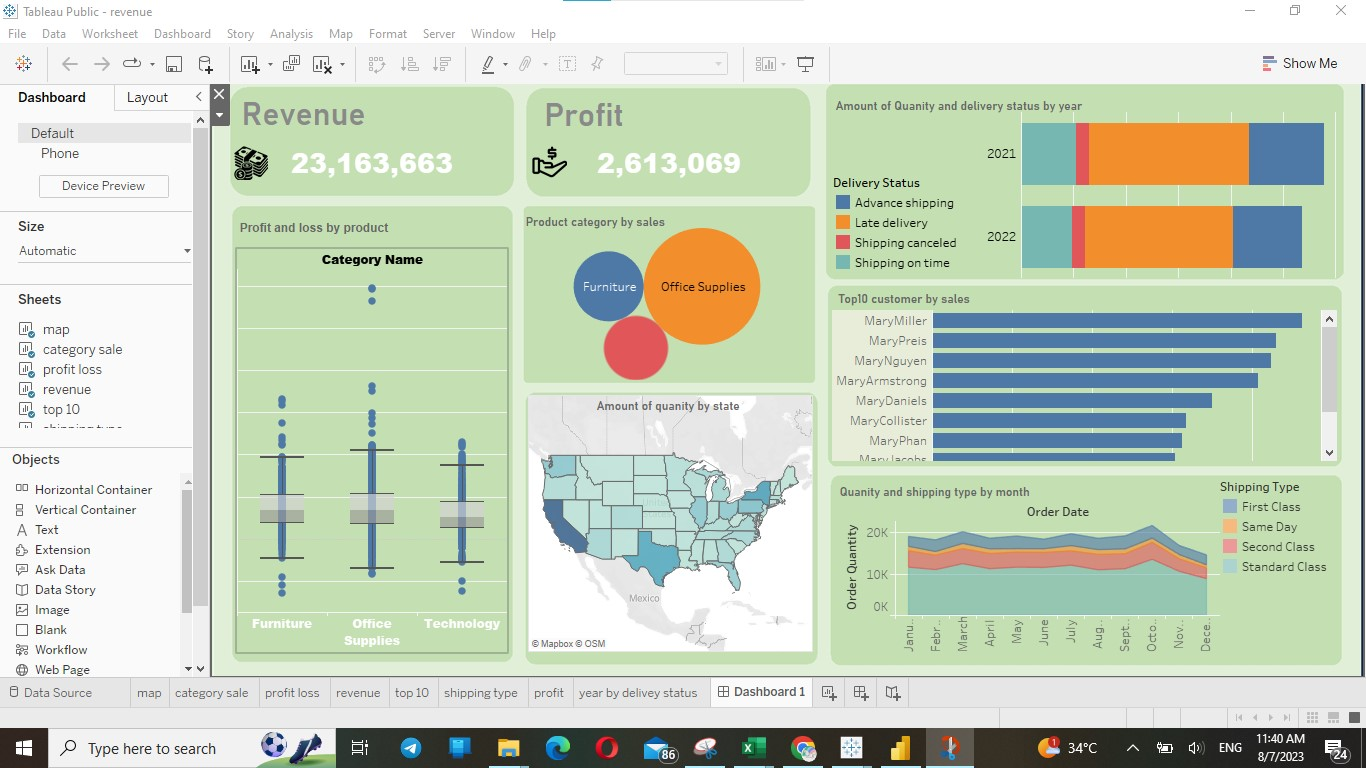

The dashboard page shown, as its layout file describes it:
{"tool":"tableau","page":{"name":"Dashboard 1","canvas":[1000,1000],"units":"permille","ordinal":0},"visuals":[{"type":"text","box":[539,11.8,236.7,50.7]},{"type":"text","box":[23.1,27,115.2,54.1]},{"type":"text","box":[279.3,28.7,88.7,54.1]},{"type":"worksheet","title":"year by delivey status","mark":"Bar","rows":["order_date"],"cols":["order_quantity"],"box":[633,47.3,344.9,280.4]},{"type":"worksheet","title":"revenue","mark":"Automatic","box":[25.7,84.5,228.7,96.3]},{"type":"worksheet","title":"profit","mark":"Automatic","box":[283.7,84.5,226.1,98]},{"type":"image","param":"Image/4016510-200.png","box":[278.4,101.4,69.2,59.1]},{"type":"image","param":"Image/1063290-200.png","box":[20.4,104.7,42.6,57.4]},{"type":"legend","title":"year by delivey status","param":"[federated.0w3r3zw0531o8816naov31bvc76v].[none:delivery_status:nk]","box":[539,152,110.8,172.3]},{"type":"text","box":[271.3,207.8,156.9,50.7]},{"type":"text","box":[23.1,217.9,158.7,50.7]},{"type":"worksheet","title":"category sale","mark":"Circle","box":[271.3,243.2,249.1,256.8]},{"type":"worksheet","title":"profit loss","mark":"Circle","rows":["profit_per_order"],"cols":["category_name"],"box":[23.1,278.7,234,680.7]},{"type":"text","box":[541.7,337.8,137.4,50.7]},{"type":"worksheet","title":"top 10","mark":"Automatic","rows":["Calculation_938437627273510913"],"cols":["sales_per_order"],"box":[538.1,381.8,437.9,255.1]},{"type":"text","box":[332.4,518.6,127.7,50.7]},{"type":"worksheet","title":"map","mark":"Multipolygon","box":[275.7,525.3,246.5,434.1]},{"type":"text","box":[542.5,663.9,168.4,50.7]},{"type":"legend","title":"shipping type","param":"[federated.0w3r3zw0531o8816naov31bvc76v].[none:shipping_type:nk]","box":[874.1,665.5,102.8,177.4]},{"type":"worksheet","title":"shipping type","mark":"Area","rows":["order_quantity"],"cols":["order_date"],"box":[541.7,704.4,332.4,256.8]}]}

Visuals, with their boxes on the dashboard's canvas, which has no fixed pixel size, in thousandths of its width and height (x1, y1, x2, y2). These are canvas units, not pixel positions in the 1366x768 screenshot, which may show the page scaled, cropped or inside an application window:
text: [x1=539, y1=12, x2=776, y2=62]
text: [x1=23, y1=27, x2=138, y2=81]
text: [x1=279, y1=29, x2=368, y2=83]
"year by delivey status" worksheet (Bar marks): [x1=633, y1=47, x2=978, y2=328]
"revenue" worksheet: [x1=26, y1=84, x2=254, y2=181]
"profit" worksheet: [x1=284, y1=84, x2=510, y2=182]
image: [x1=278, y1=101, x2=348, y2=160]
image: [x1=20, y1=105, x2=63, y2=162]
"year by delivey status" legend: [x1=539, y1=152, x2=650, y2=324]
text: [x1=271, y1=208, x2=428, y2=258]
text: [x1=23, y1=218, x2=182, y2=269]
"category sale" worksheet (Circle marks): [x1=271, y1=243, x2=520, y2=500]
"profit loss" worksheet (Circle marks): [x1=23, y1=279, x2=257, y2=959]
text: [x1=542, y1=338, x2=679, y2=388]
"top 10" worksheet: [x1=538, y1=382, x2=976, y2=637]
text: [x1=332, y1=519, x2=460, y2=569]
"map" worksheet (Multipolygon marks): [x1=276, y1=525, x2=522, y2=959]
text: [x1=542, y1=664, x2=711, y2=715]
"shipping type" legend: [x1=874, y1=666, x2=977, y2=843]
"shipping type" worksheet (Area marks): [x1=542, y1=704, x2=874, y2=961]
